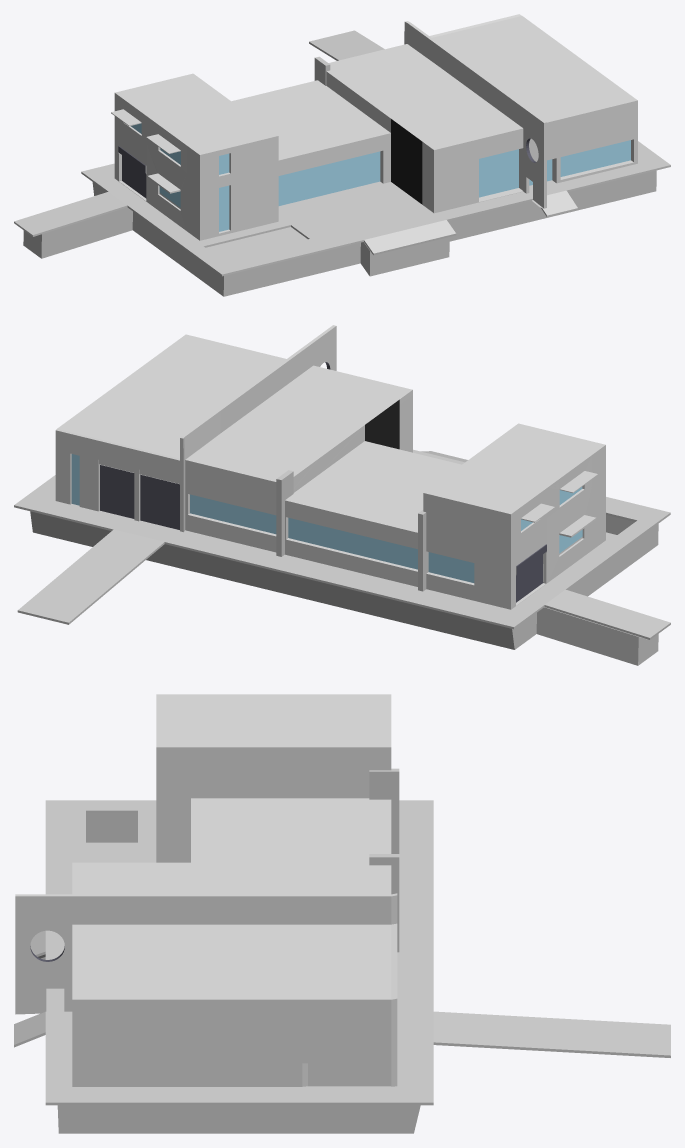
File: EdificioPesado.fbx
3 renders of one model, top to bottom at view 1: azimuth 30°, elevation 25°; view 2: azimuth 150°, elevation 25°; view 3: azimuth 270°, elevation 25°, orthographic. The views are drawn at different scales.
Visible parts, largest first — view 1: Cube.001, Plane.003; view 2: Cube.001, Plane.003, Plane.019, Plane.020; view 3: Cube.001, Plane.003, Plane.020, Plane.019.
Part boxes in pixels (x1,y1,x2,y2): Cube.001: [111, 14, 637, 240]; Plane.003: [14, 30, 670, 296]; Cube.001: [55, 325, 605, 609]; Plane.003: [14, 449, 670, 665]; Plane.019: [276, 470, 293, 556]; Plane.020: [418, 510, 428, 591]; Cube.001: [15, 694, 397, 1086]; Plane.003: [14, 800, 670, 1133]; Plane.020: [369, 768, 399, 853]; Plane.019: [369, 854, 399, 952].
Bounding box in the file's own units: 299 × 62.76 × 227.
